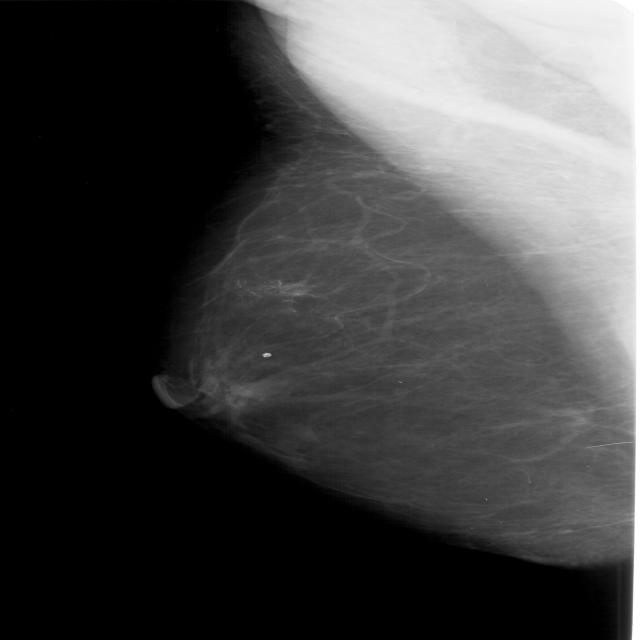normal: (117, 0, 640, 554)
